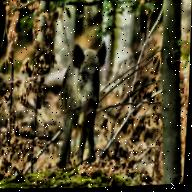boar: (43, 28, 123, 170)
